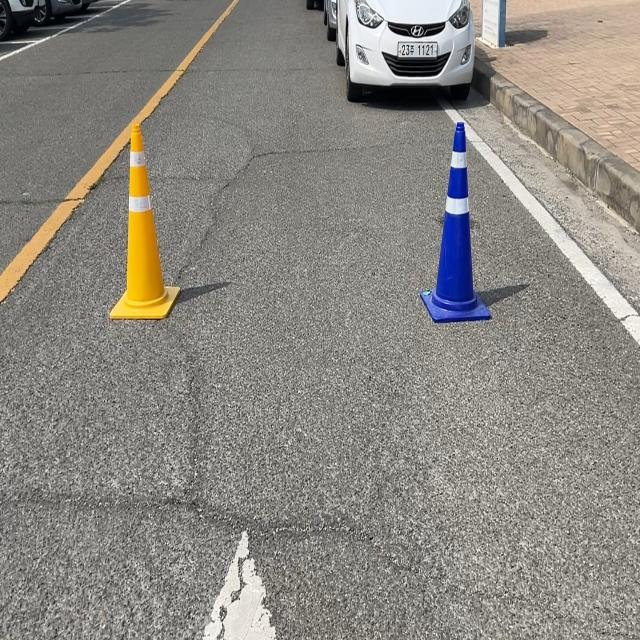b_rub: (421, 117, 491, 321)
y_rub: (109, 121, 180, 319)
